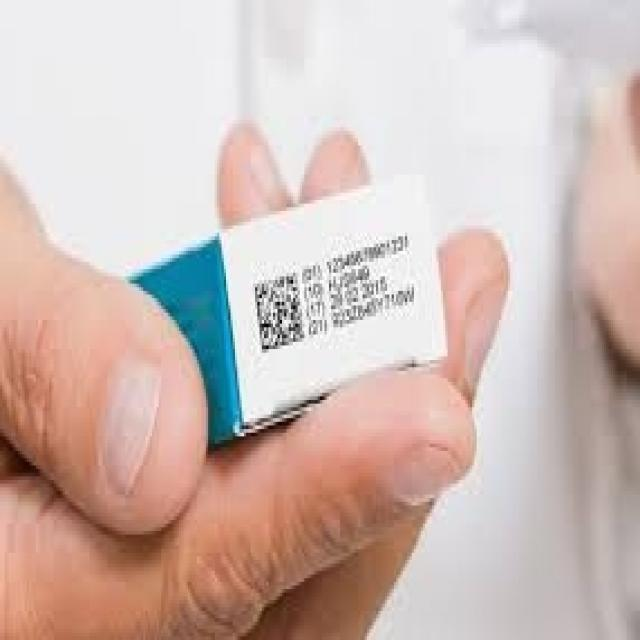datamatrix: (249, 263, 310, 357)
